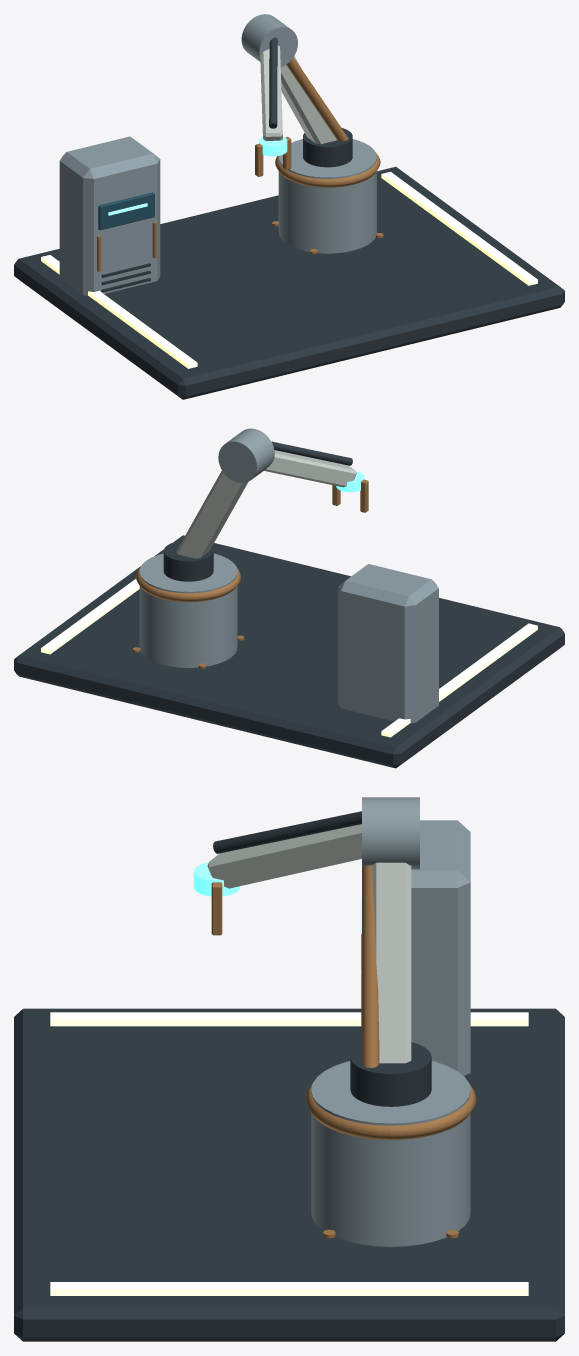
Rendered from repair-bay.lod0.glb.
3 renders of one model, top to bottom at view 1: azimuth 30°, elevation 25°; view 2: azimuth 150°, elevation 25°; view 3: azimuth 270°, elevation 25°, orthographic. The views are drawn at different scales.
Parts seen in each view (by area): view 1: structure, manipulator; view 2: structure, manipulator; view 3: structure, manipulator.
Part boxes in pixels (x1,y1,x2,y2): structure: (14, 136, 564, 399); manipulator: (241, 14, 352, 176); structure: (14, 535, 564, 768); manipulator: (163, 428, 368, 581); structure: (14, 820, 564, 1341); manipulator: (193, 797, 431, 1106).
Bounding box in the file's own units: 5 × 3.05 × 3.8.
